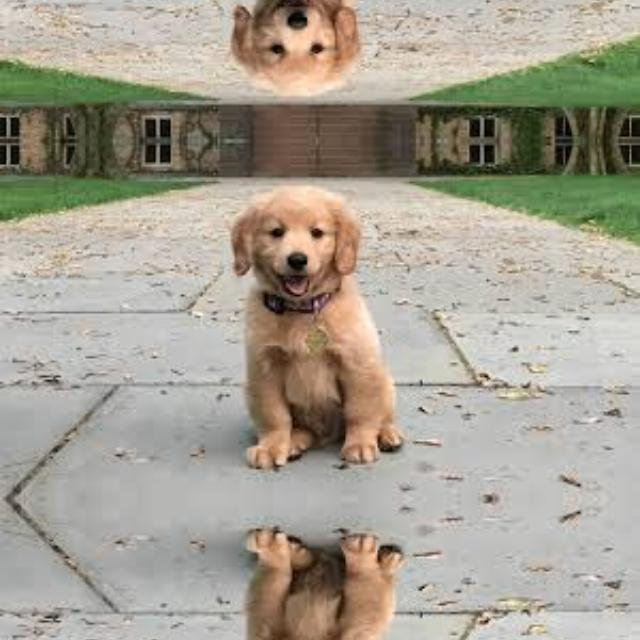dog: (222, 181, 410, 473), (222, 524, 410, 640), (222, 0, 410, 99)
